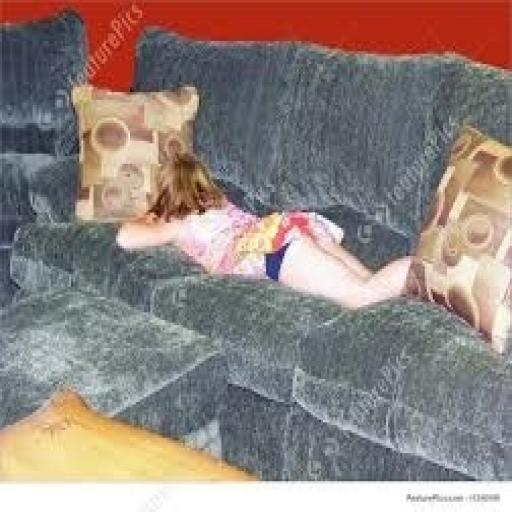sleeping: (114, 130, 510, 358)
